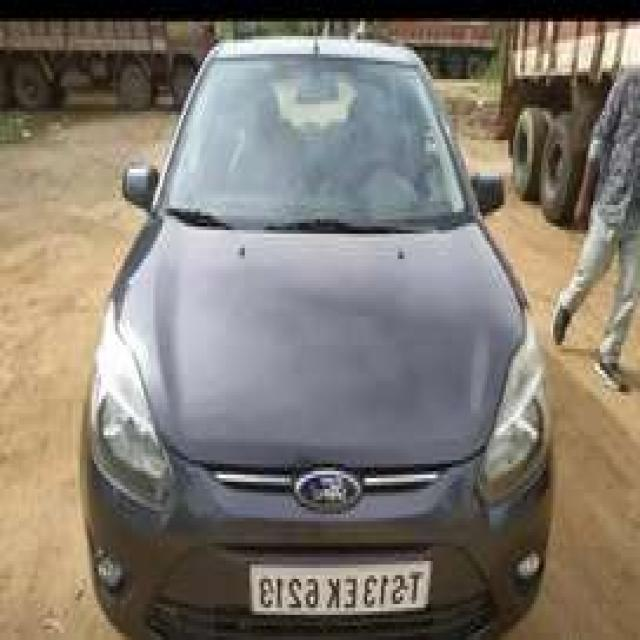license_plate: (245, 554, 438, 628)
